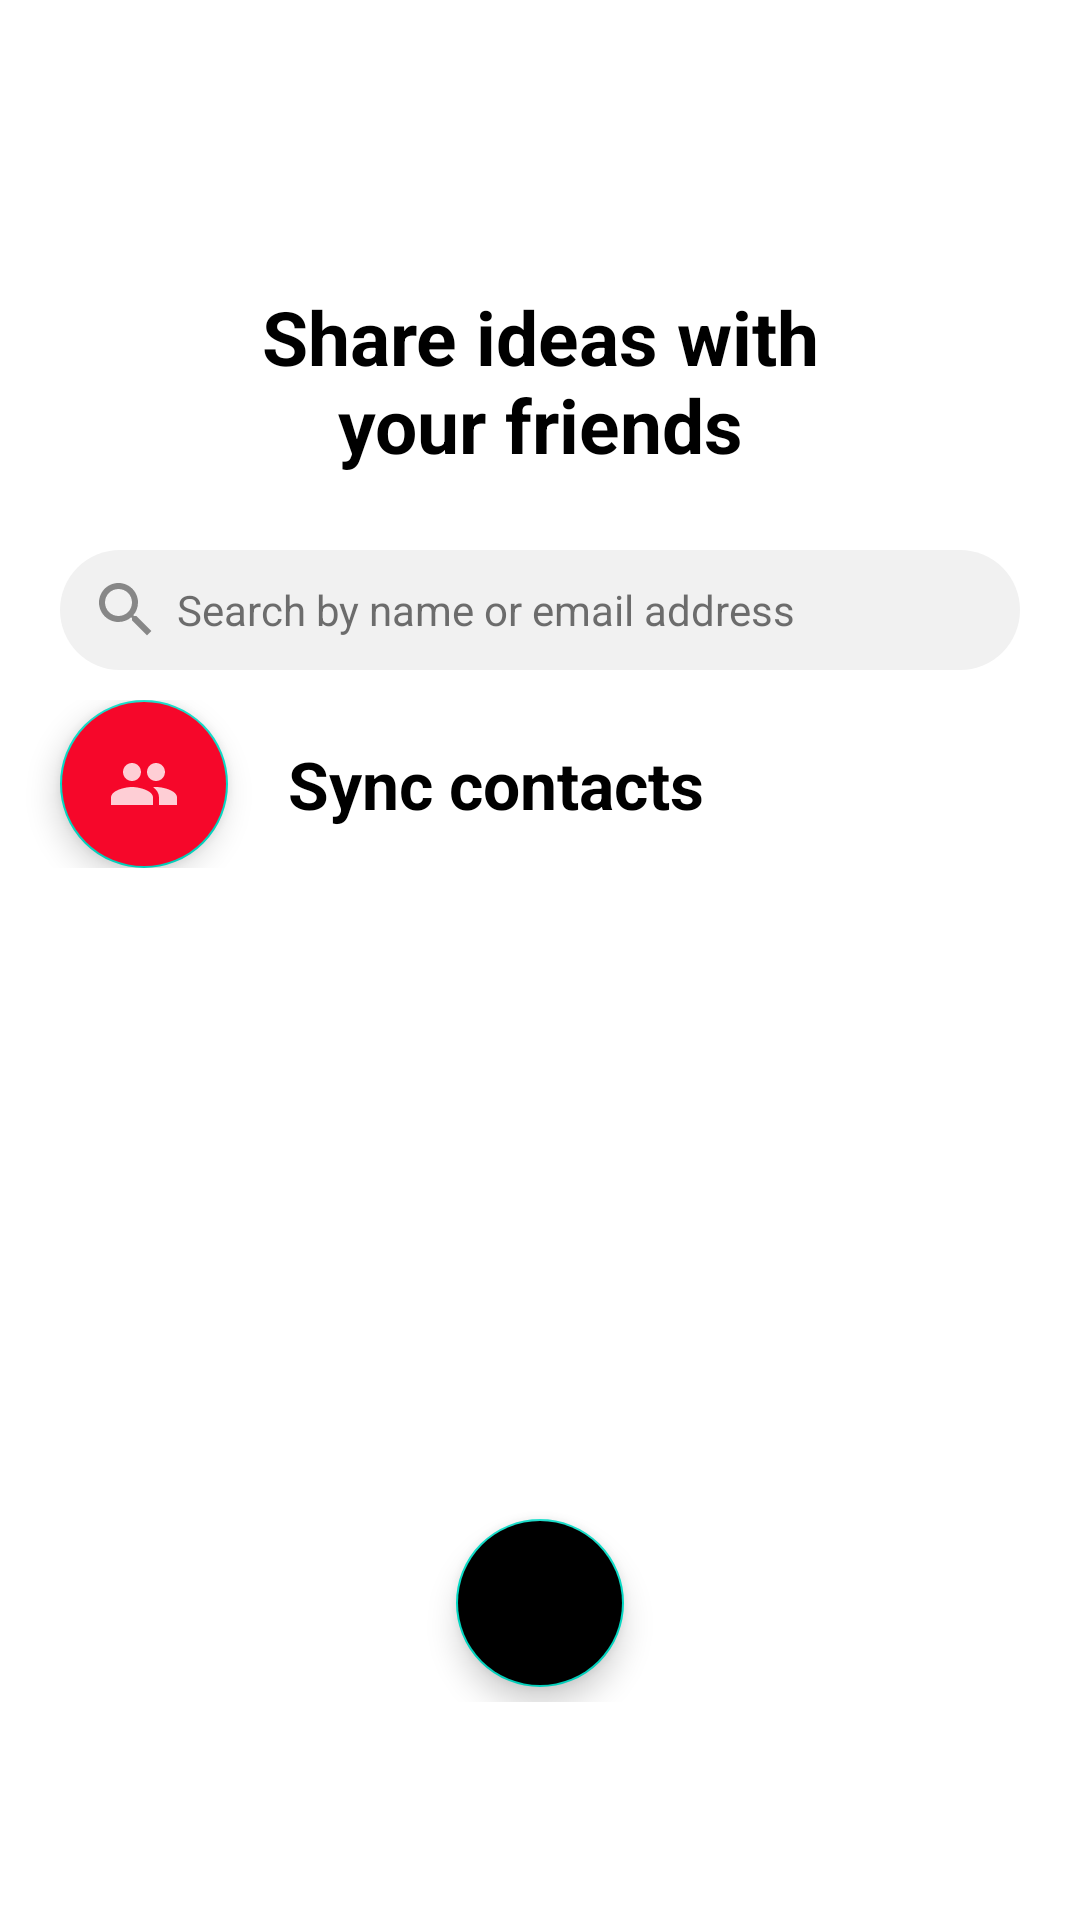

Icons on this 1080px x 1920px Android screen, each with its box as (x1, y1, x2, y2):
people: (60, 700, 228, 868)
